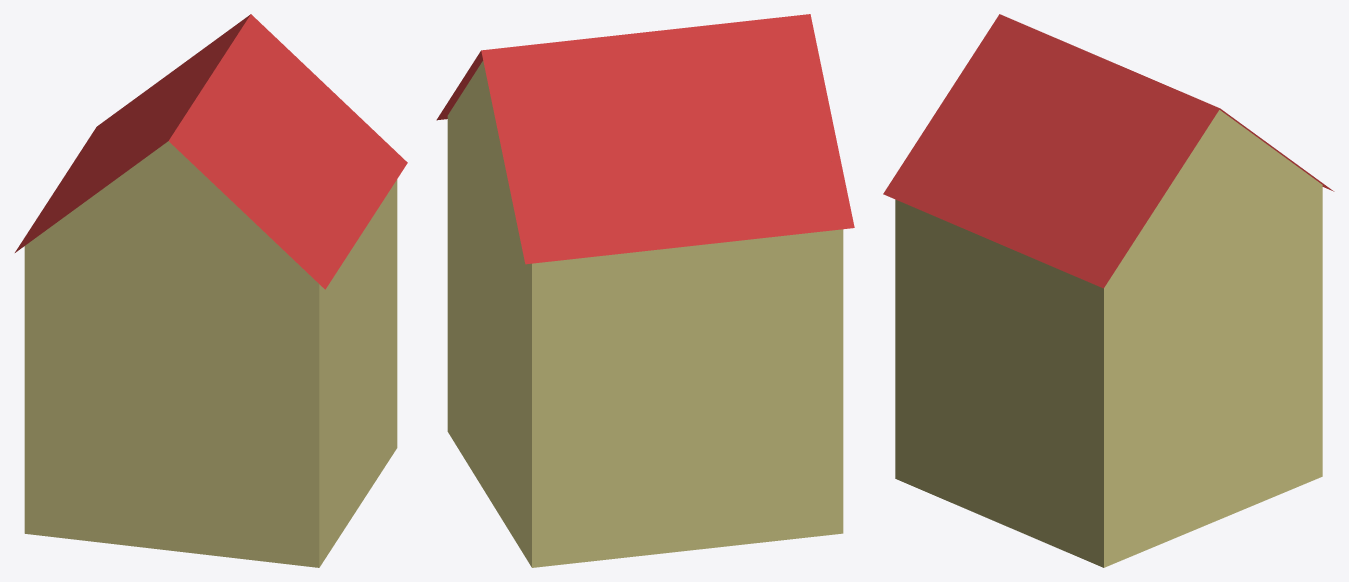
The picture shows the model from 3 angles, left to right: view 1: azimuth 30°, elevation 25°; view 2: azimuth 150°, elevation 25°; view 3: azimuth 270°, elevation 25°; orthographic projection. The views are drawn at different scales.
Bounding box in the file's own units: 13.09 × 13.09 × 13.3.
